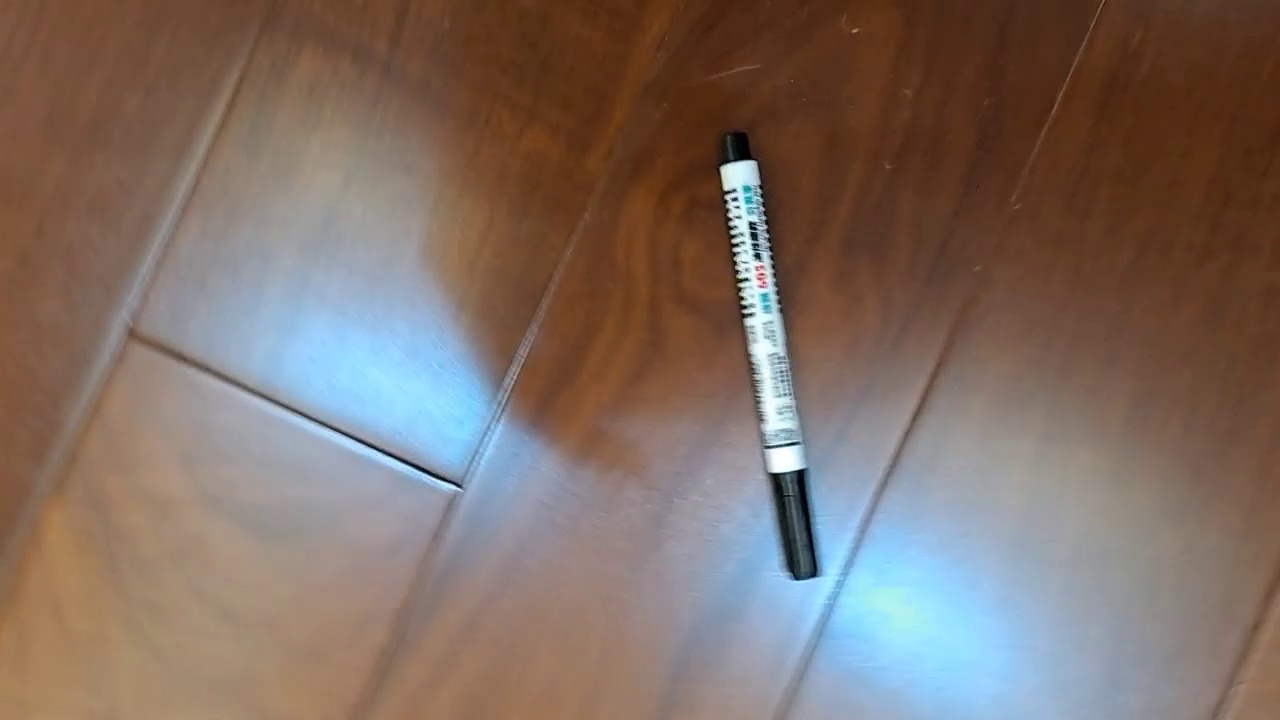pen: (717, 130, 824, 582)
